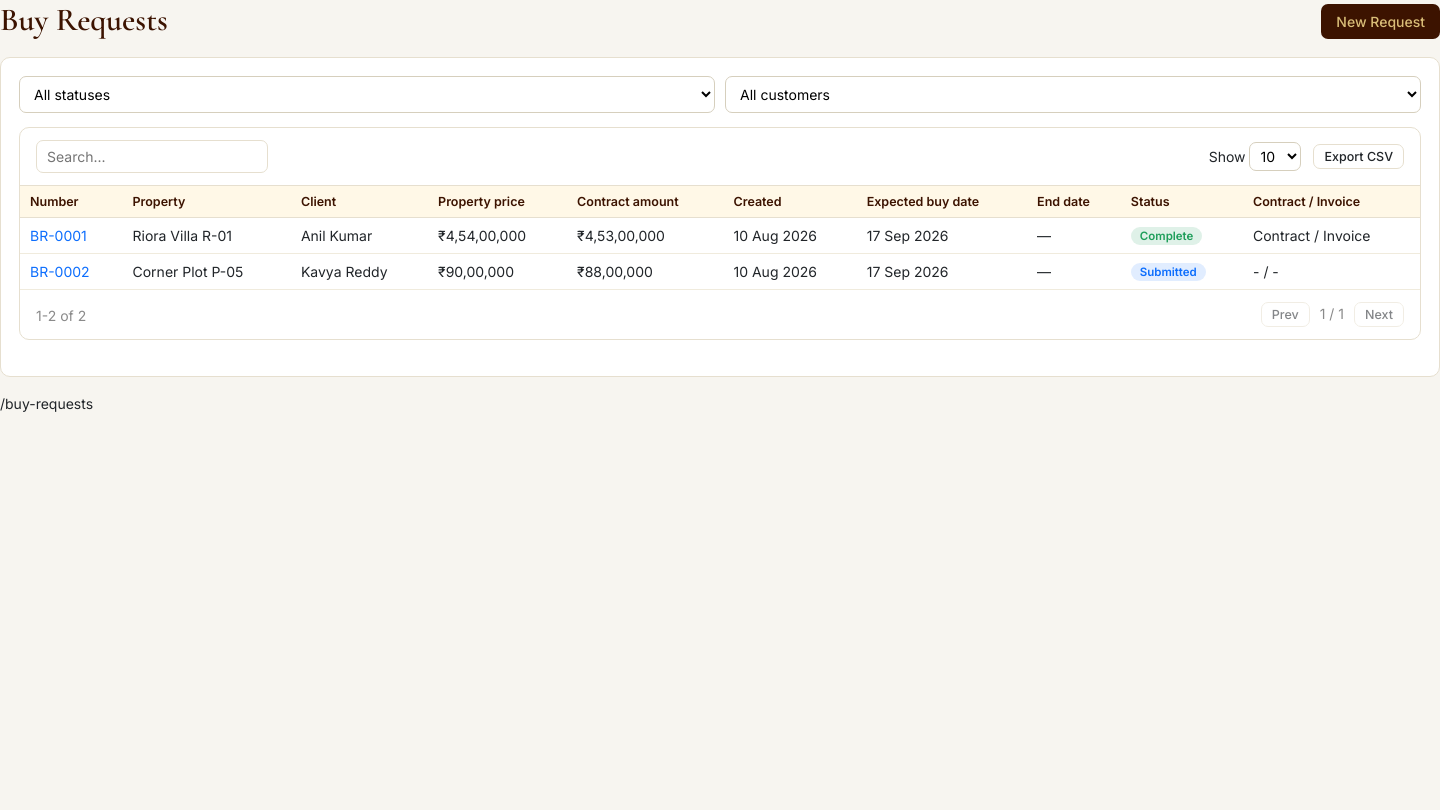
Test: New Request modal (PLAN §7, §5) › buy: property select lists only approved Sale properties
The width and height of the screenshot is (1440, 810).
Expected: the link "BR-0001" is shown, [30,227,87,244]
Click the button "New Request". click: (1381, 22)
box: [1321,4,1439,39]
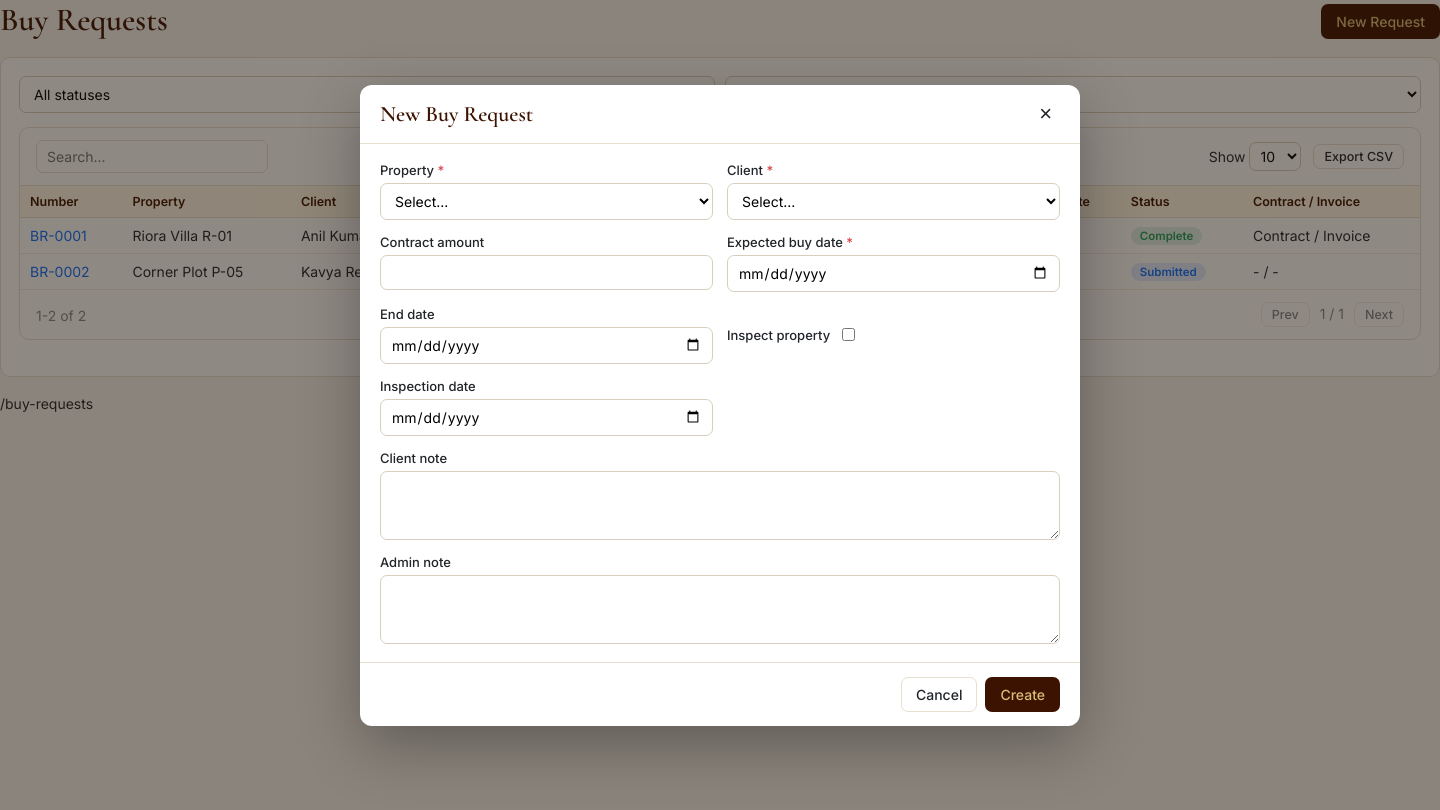
Expected: the dialog is shown, [360,84,1080,726]
Expected: the heading "New Buy Request" is shown, [380,100,533,126]
